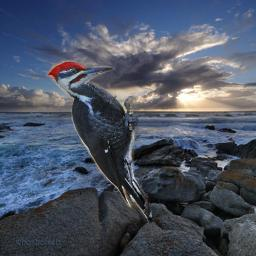Woodpecker: (46, 60, 152, 223)
